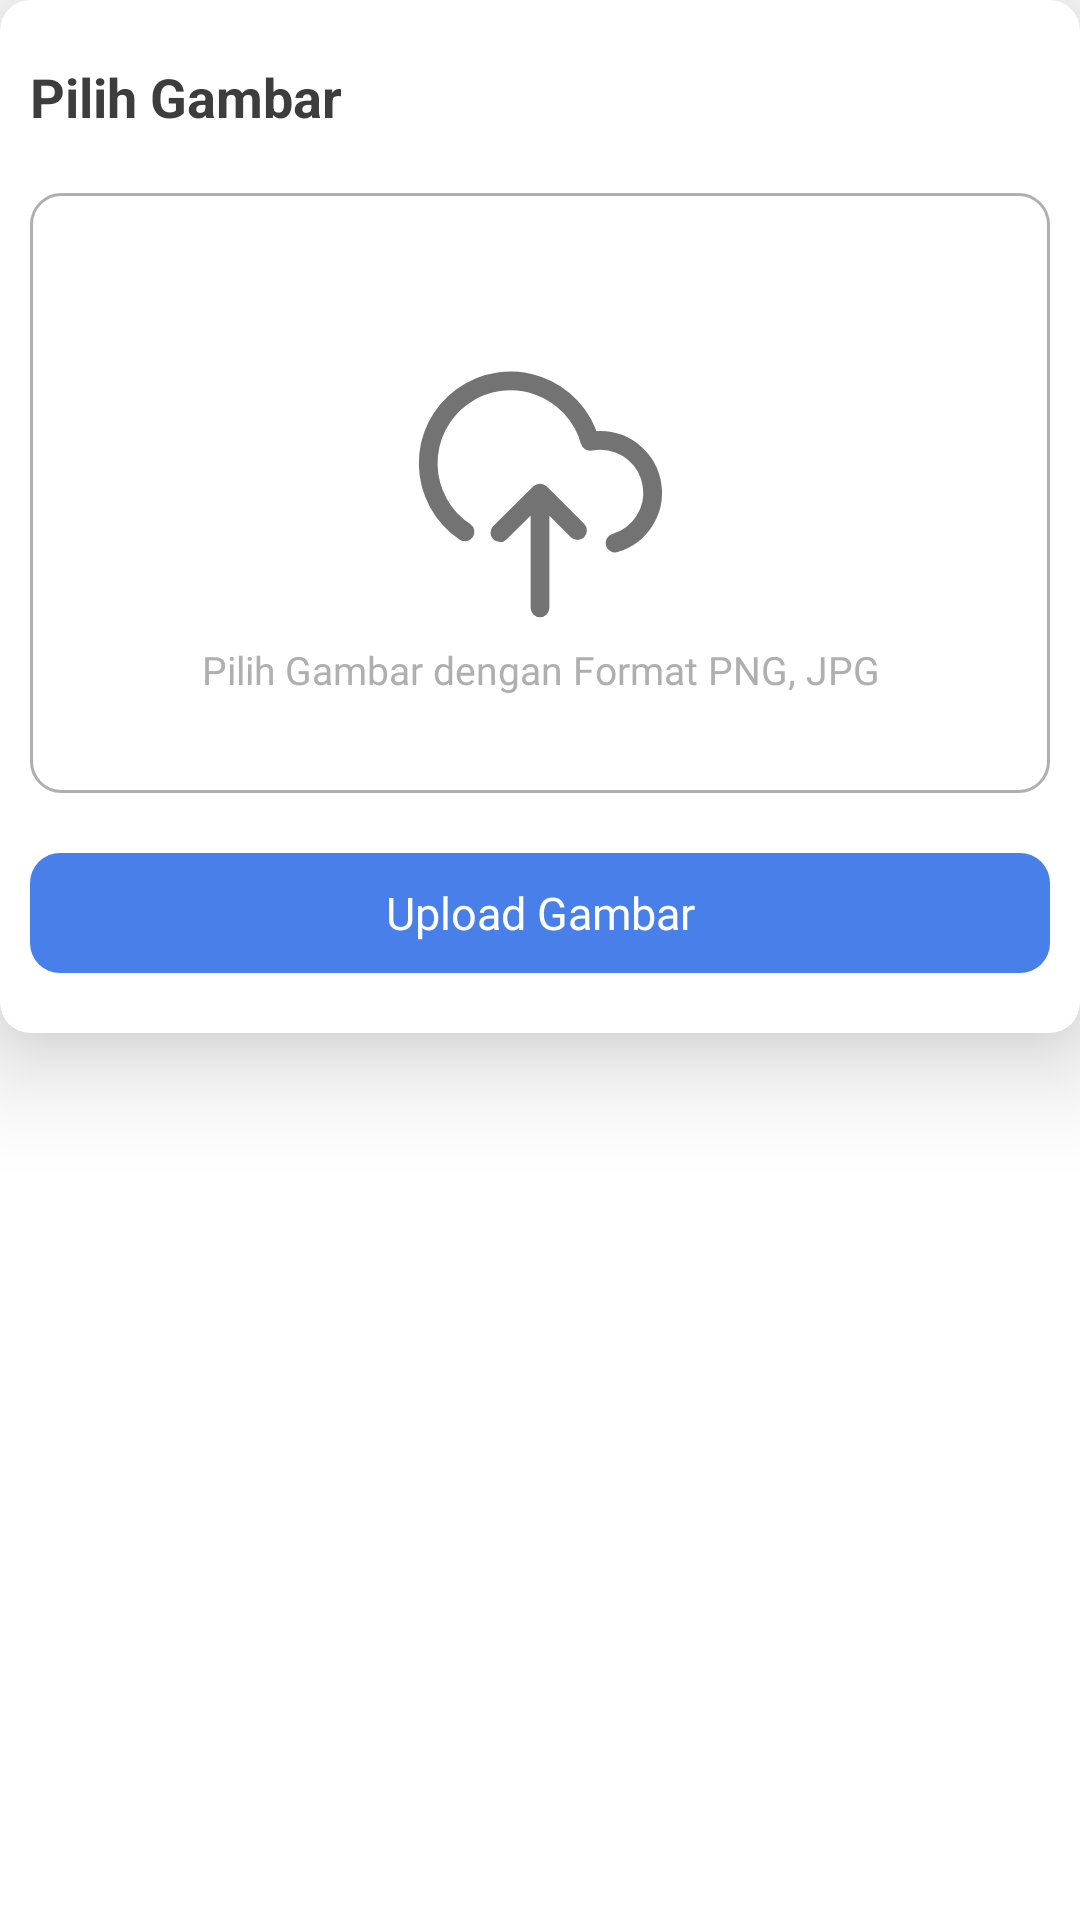

Point at icon controls on the screen. Image size 1080w x 1920h, points as (x=x, y=y).
upload pilih gambar: (x=540, y=494)
